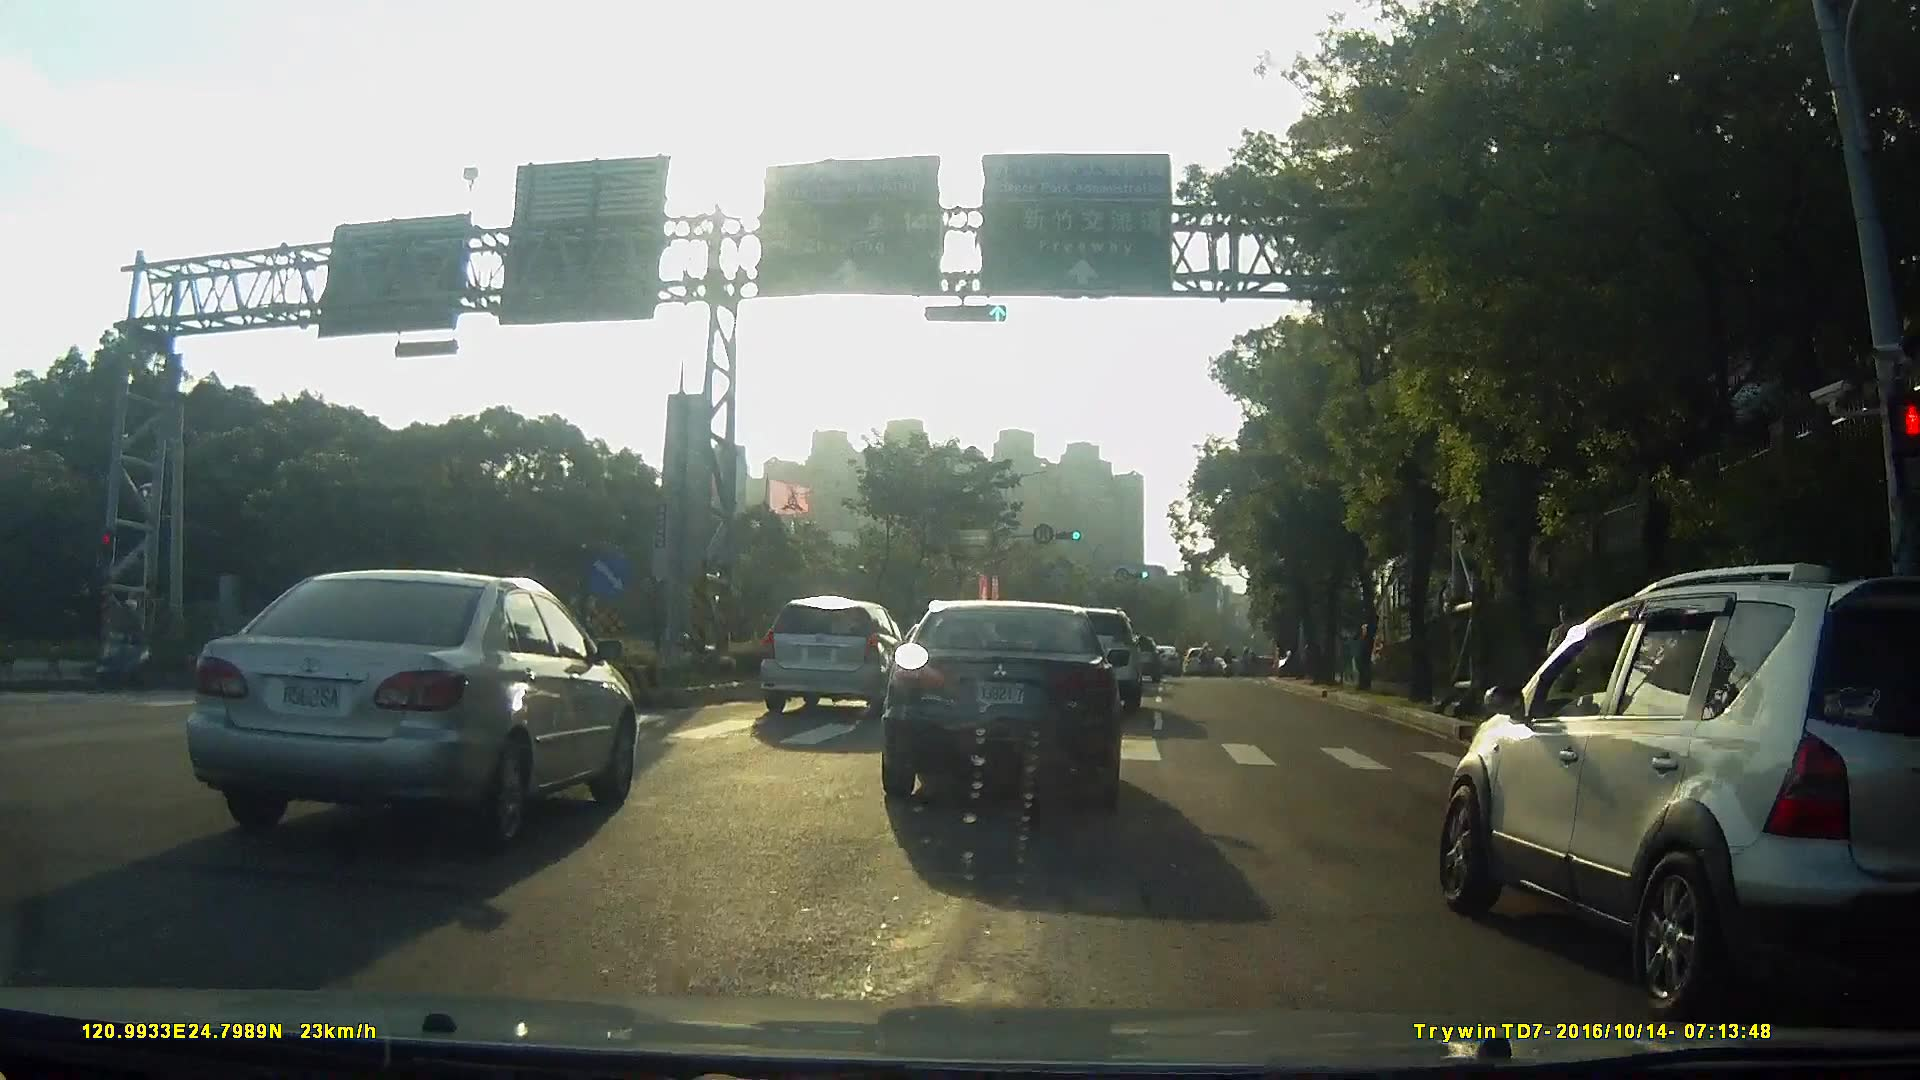rider: (78, 598, 142, 693)
vehicle: (1422, 558, 1920, 1018), (166, 561, 655, 855), (867, 598, 1142, 813), (747, 594, 902, 718), (1141, 641, 1175, 674), (1172, 641, 1203, 674)
